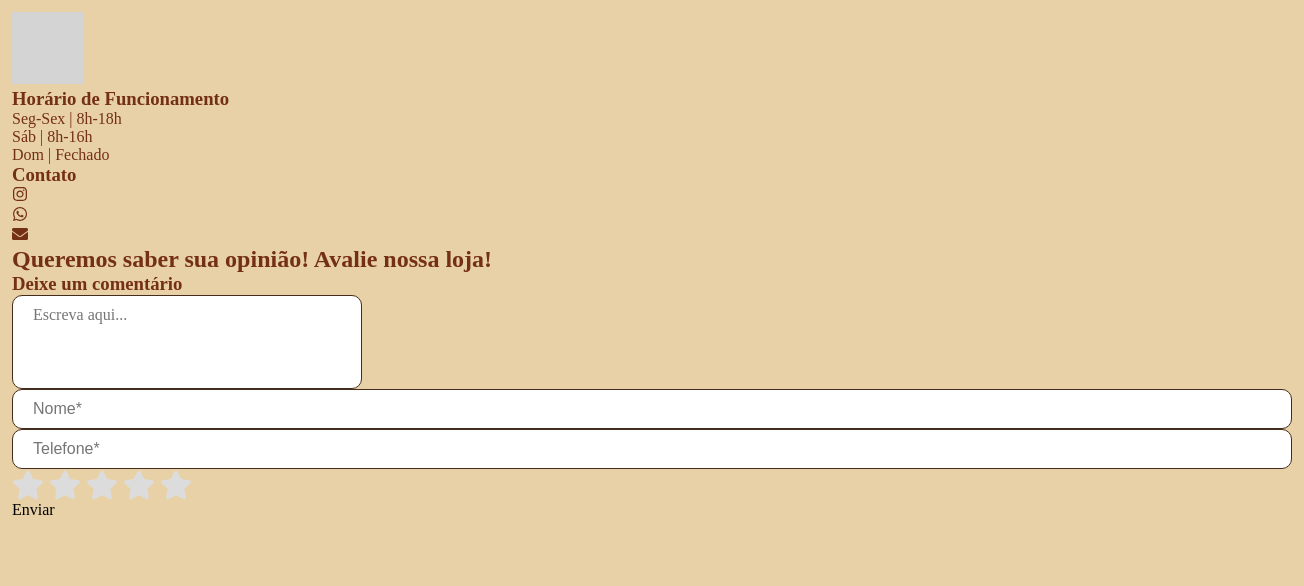
Footer Component › shows an error when required fields are missing
What coordinates should you click on to do the following:
click the button "Enviar"
I would click on:
 (33, 510)
Its box is [12,501,55,519].
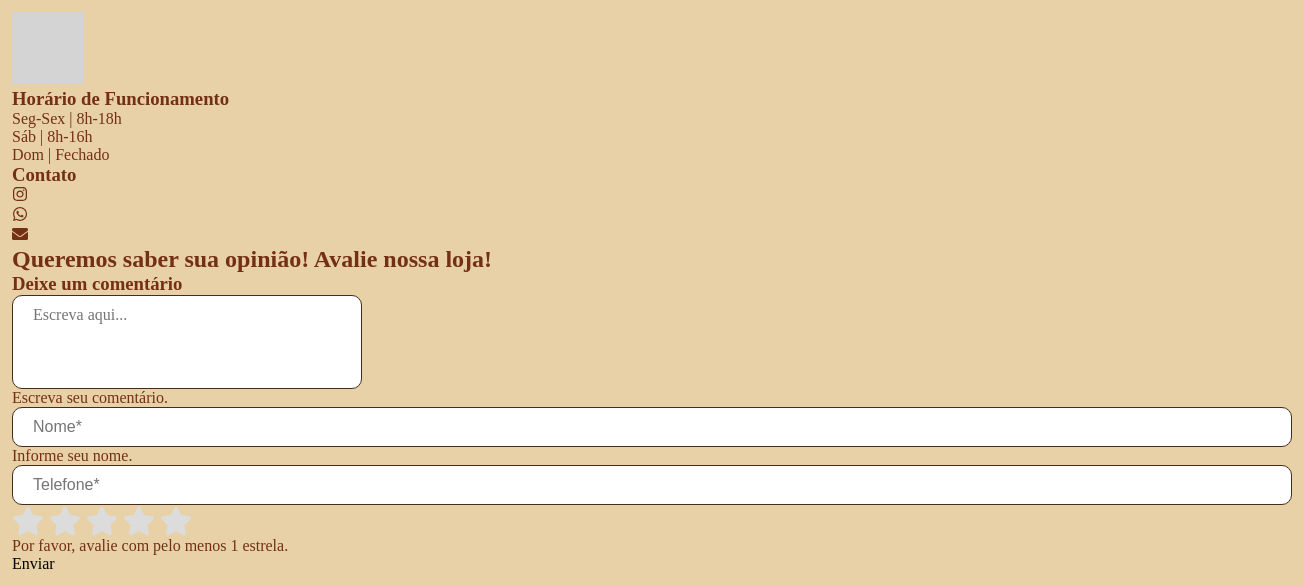
Check: the text "Escreva seu comentário." is shown, box [12,389,168,406]
Check: the text "Informe seu nome." is shown, box [12,447,132,464]
Check: the text "Por favor, avalie com pelo menos 1 estrela." is shown, box [12,537,288,554]
